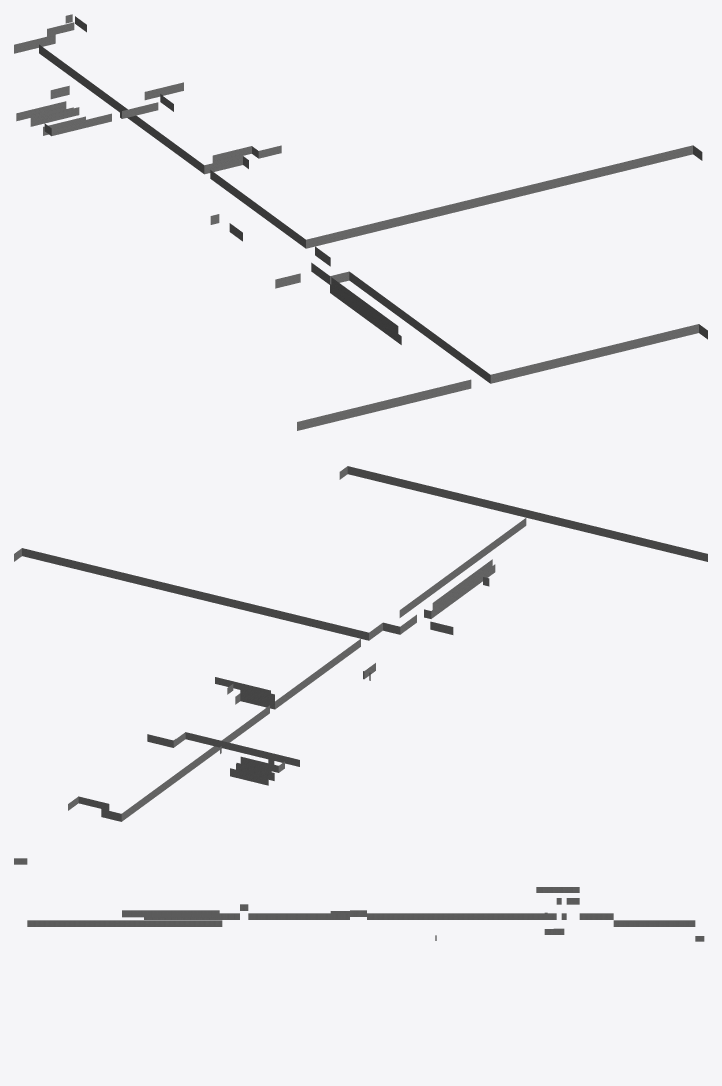
File: 25b1wall.glb
The picture shows the model from 3 angles, top to bottom: view 1: azimuth 30°, elevation 25°; view 2: azimuth 150°, elevation 25°; view 3: azimuth 270°, elevation 25°; orthographic projection. The views are drawn at different scales.
Parts seen in each view (by area): view 1: DaTing_qiang; view 2: DaTing_qiang; view 3: DaTing_qiang.
Part boxes in pixels (box(x1,y1,x2,y2)): DaTing_qiang: box(14, 14, 707, 430); DaTing_qiang: box(14, 466, 707, 821); DaTing_qiang: box(14, 858, 704, 941).
Bounding box in the file's own units: 301 × 13.31 × 427.
1 material, 1 textured.
